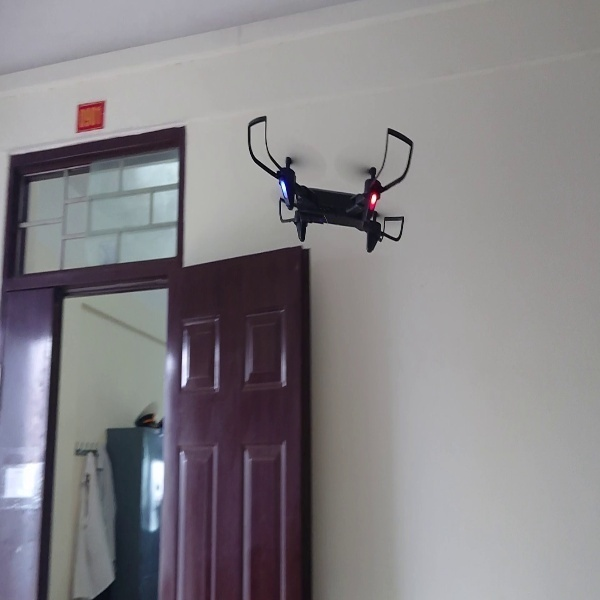drone: (244, 109, 414, 256)
